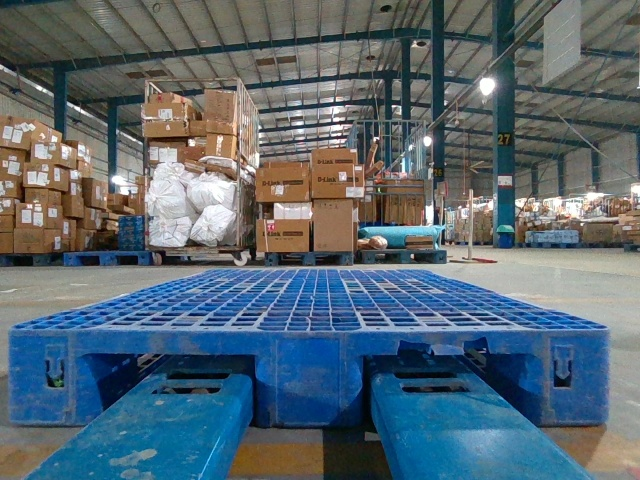block: (254, 330, 362, 432), (4, 324, 78, 424), (535, 329, 609, 428)
front: (10, 328, 608, 422)
hole pallet: (76, 344, 266, 426), (358, 348, 536, 426)
